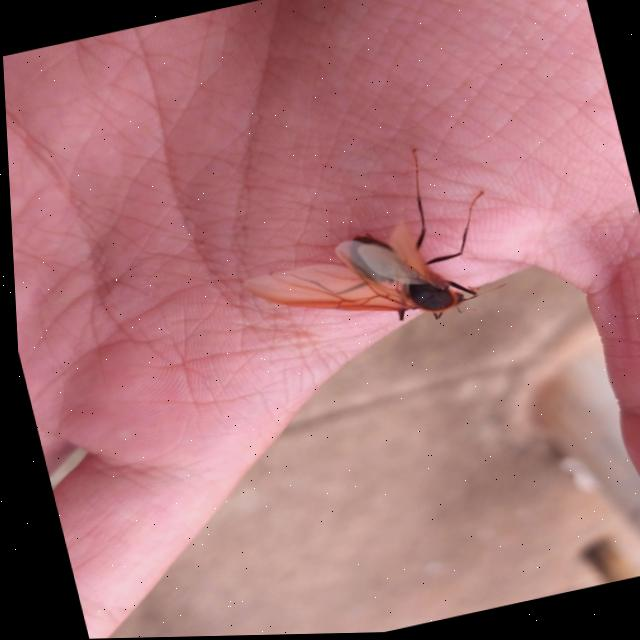Alive-Male-Alate: (212, 136, 510, 362)
